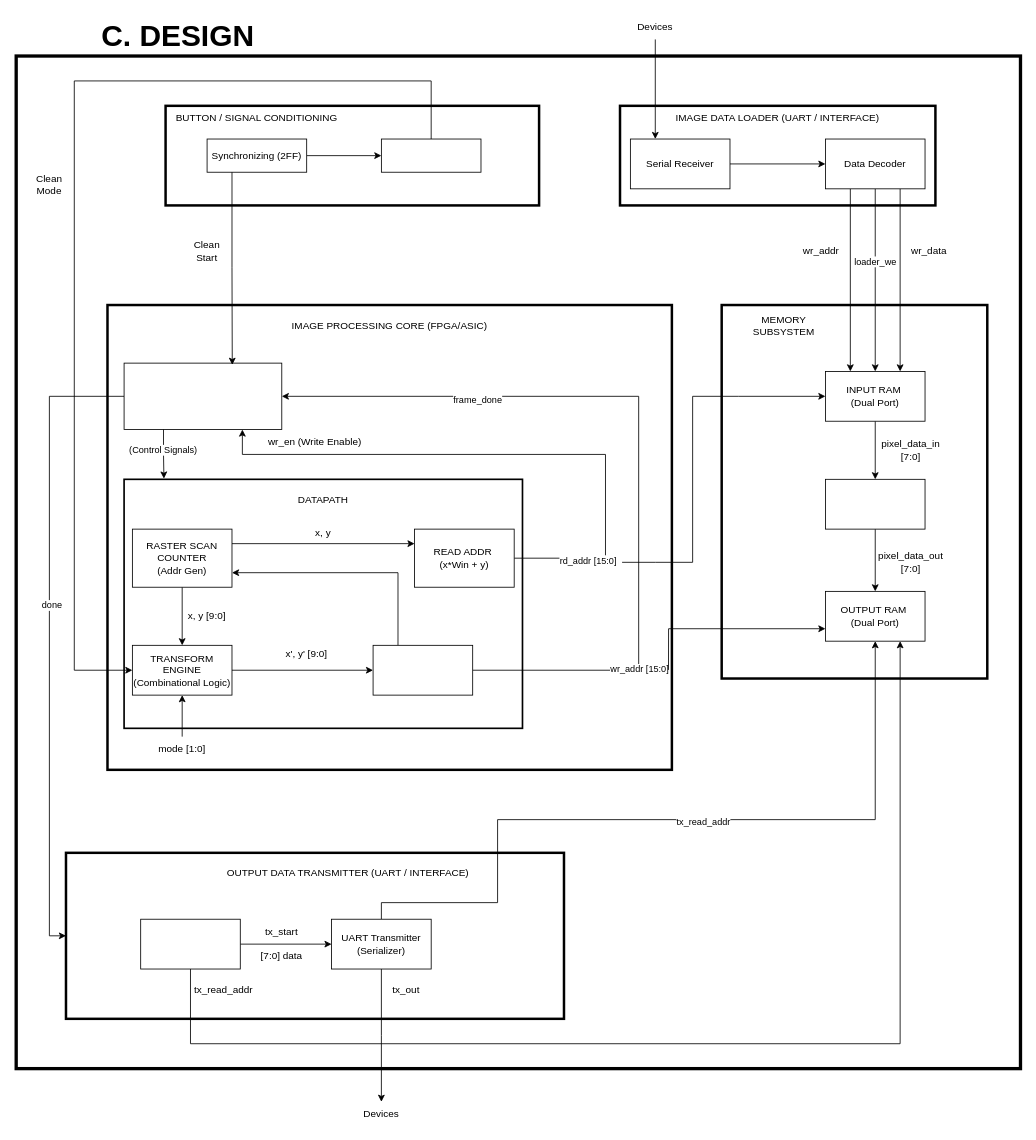
Image size: 1036x1140. Some labels were removed from this diagram. The shapes that lost their labels are listed below. From the top down, each one's centre as x and y in pixels, then its label:
the point at 431,155: Debouncer
the point at 202,396: CONTROL UNIT (FSM)
the point at 875,503: PIXEL DATA REGISTER
the point at 422,669: WRITE ADDR (x' * Wout + y')
the point at 190,943: Read Logic Controller (Auto Scan)
